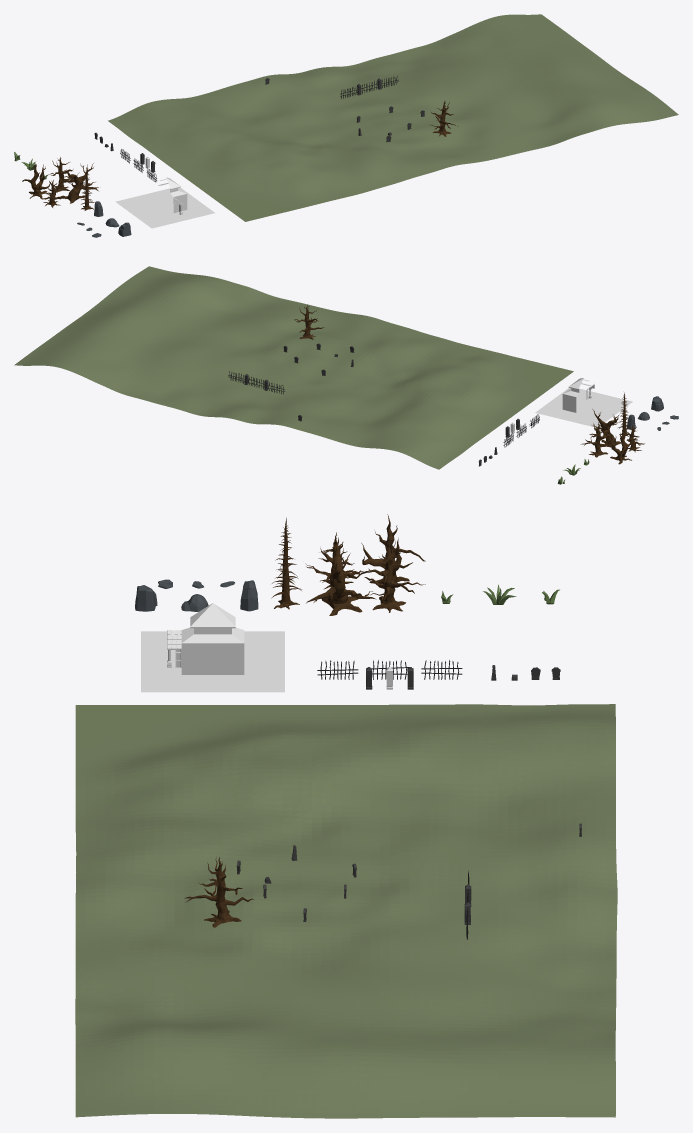
Rendered from haunted-cemetery-low-poly.glb.
3 renders of one model, top to bottom at view 1: azimuth 30°, elevation 25°; view 2: azimuth 150°, elevation 25°; view 3: azimuth 270°, elevation 25°, orthographic. The views are drawn at different scales.
Visible parts, largest first — view 1: ground, Plane, tree-2, mosoleum-1, tree-4; view 2: ground, Plane, mosoleum-1, tree-2; view 3: ground, Plane, mosoleum-1, tree-2, tree-1.002, tree-1, tree-4, tree-3.
Boxes of the visible parts, x1=… form: ground: x1=108, y1=14, x2=678, y2=221; Plane: x1=115, y1=187, x2=214, y2=228; tree-2: x1=60, y1=163, x2=98, y2=203; mosoleum-1: x1=158, y1=177, x2=187, y2=214; tree-4: x1=22, y1=163, x2=51, y2=198; ground: x1=14, y1=266, x2=573, y2=469; Plane: x1=535, y1=387, x2=632, y2=427; mosoleum-1: x1=562, y1=378, x2=594, y2=412; tree-2: x1=592, y1=409, x2=621, y2=449; ground: x1=75, y1=704, x2=617, y2=1118; Plane: x1=141, y1=631, x2=284, y2=692; mosoleum-1: x1=167, y1=603, x2=244, y2=674; tree-2: x1=305, y1=537, x2=376, y2=615; tree-1.002: x1=184, y1=857, x2=253, y2=927; tree-1: x1=364, y1=540, x2=425, y2=612; tree-4: x1=361, y1=514, x2=425, y2=591; tree-3: x1=271, y1=517, x2=301, y2=609.
Bounding box in the file's own units: 125 × 10.13 × 52.13.
